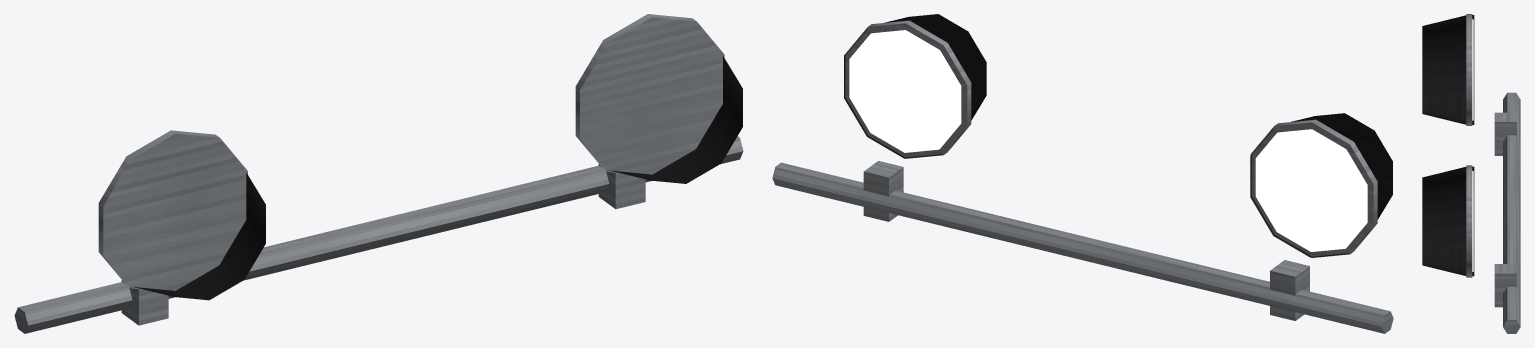
File: farois_aux_n1.glb
3 renders of one model, left to right at view 1: azimuth 30°, elevation 25°; view 2: azimuth 150°, elevation 25°; view 3: azimuth 270°, elevation 25°, orthographic. The views are drawn at different scales.
Visible parts, largest first — view 1: farois_aux_n1; view 2: farois_aux_n1; view 3: farois_aux_n1.
Part boxes in pixels (x1,y1,x2,y2): farois_aux_n1: [14, 14, 743, 333]; farois_aux_n1: [772, 14, 1393, 333]; farois_aux_n1: [1422, 14, 1520, 333].
Size of the model in its own units: 0.72 by 0.1965 by 0.132.
Materials: 2 (2 with a texture image).
